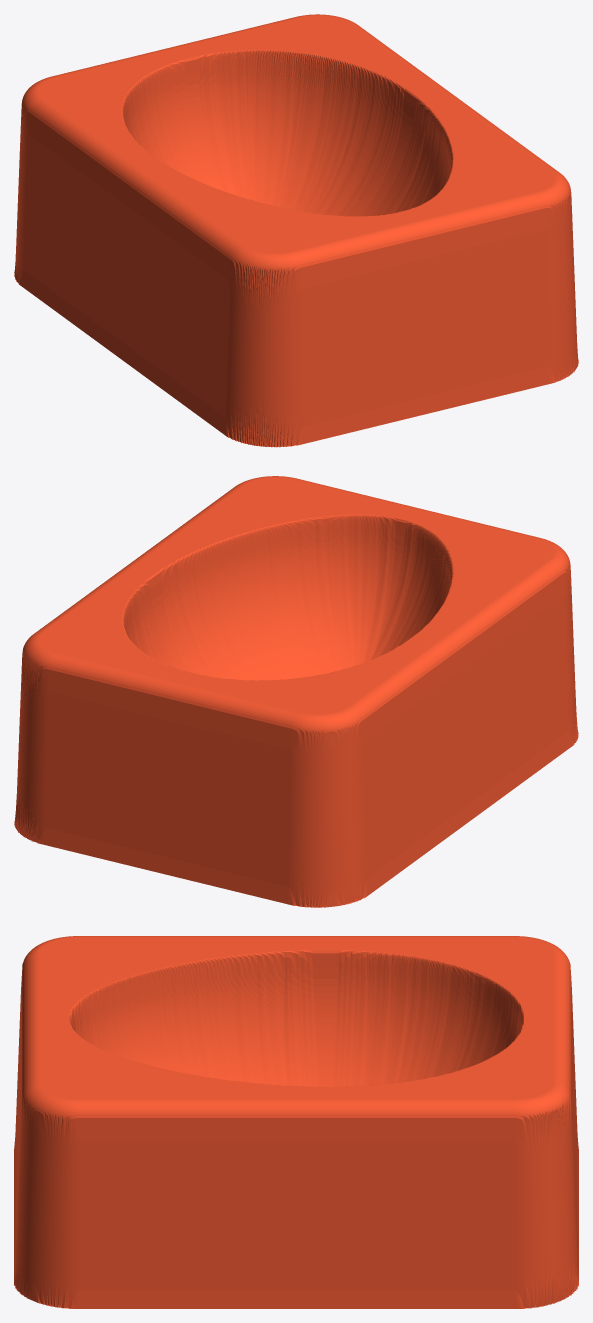
Rendered from mold.glb.
3 views of the same model, one above another, from view 1: azimuth 30°, elevation 25°; view 2: azimuth 150°, elevation 25°; view 3: azimuth 270°, elevation 25° (orthographic). The views are drawn at different scales.
Visible parts, largest first — view 1: geometry_0; view 2: geometry_0; view 3: geometry_0.
Part boxes in pixels (box(x1,y1,x2,y2)): geometry_0: box(14, 14, 578, 447); geometry_0: box(14, 476, 578, 907); geometry_0: box(14, 936, 578, 1308).
Size of the model in its own units: 0.0612 by 0.031 by 0.0798.
